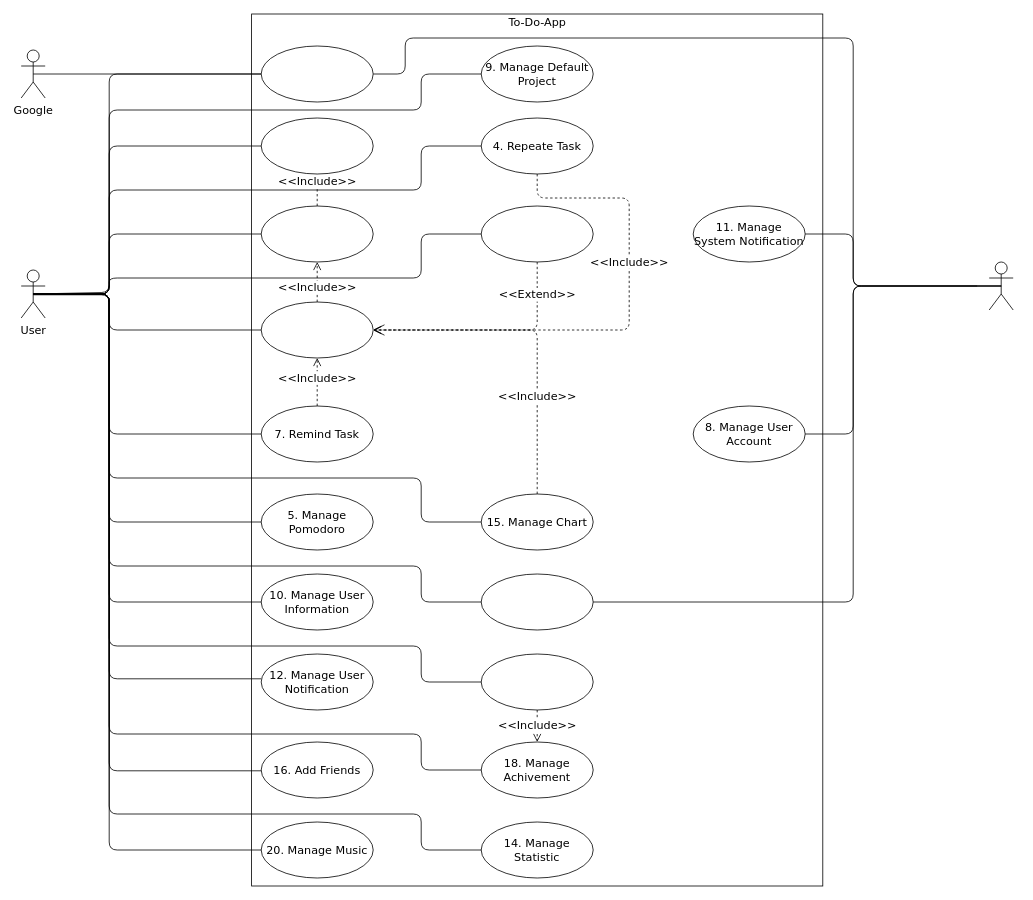
Image size: 1033x900. Some labels were removed from this diagram. The centre of each missing label's shape, as x and y in pixels:
"1. Manage Project" goes at [316,145].
"13. Manage Export-Print" goes at [536,601].
"17. Manage Ranking System" goes at [536,681].
"19. Manage Subtask" goes at [536,233].
"2. Manage Section" goes at [316,233].
"3. Manage Task" goes at [316,329].
"6. Login" goes at [316,73].
"Admin" goes at [1000,285].
